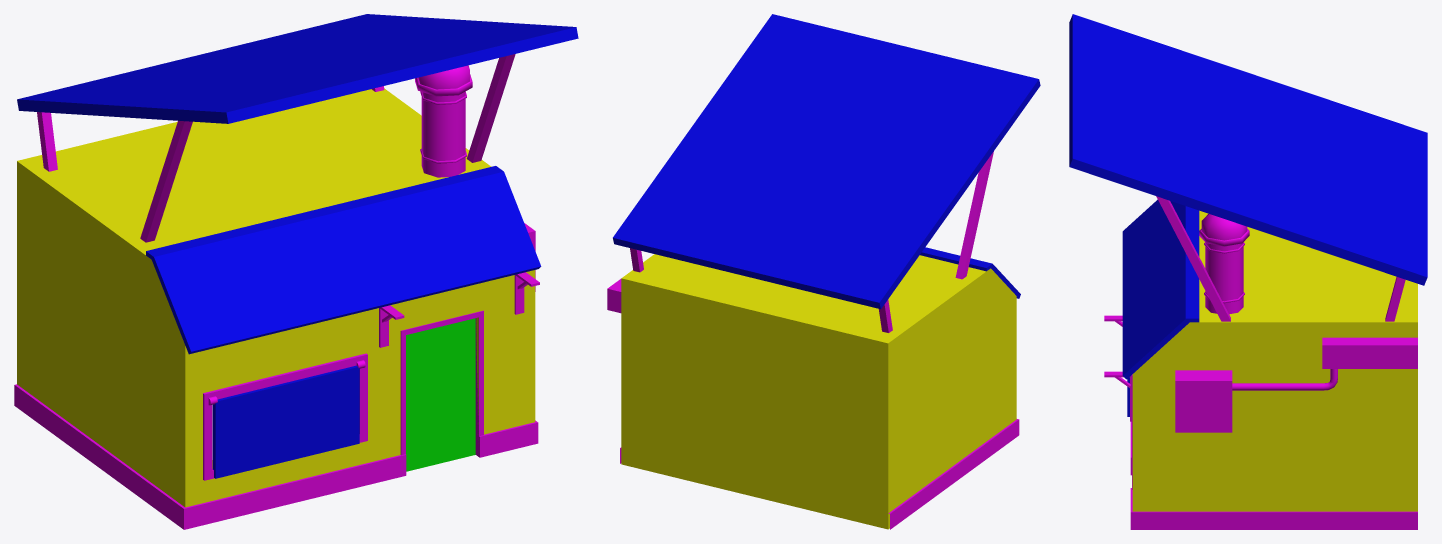
File: HouseC.fbx
3 renders of one model, left to right at view 1: azimuth 30°, elevation 25°; view 2: azimuth 150°, elevation 25°; view 3: azimuth 270°, elevation 25°, orthographic. The views are drawn at different scales.
Parts seen in each view (by area): view 1: polySurface1; view 2: polySurface1; view 3: polySurface1.
Boxes of the visible parts, bbox=[...] form: polySurface1: bbox=[14, 14, 578, 529]; polySurface1: bbox=[607, 14, 1040, 529]; polySurface1: bbox=[1069, 14, 1427, 529].
Bounding box in the file's own units: 647 × 721 × 628.
